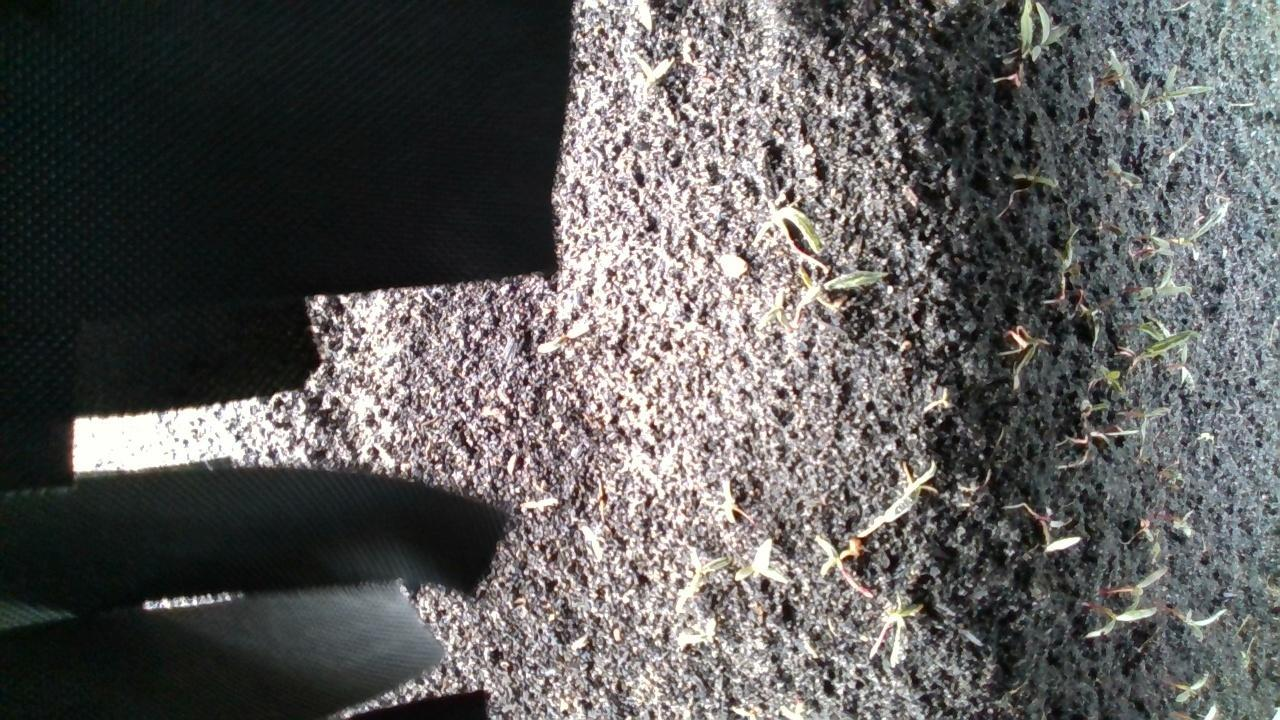weed: (532, 320, 591, 353)
